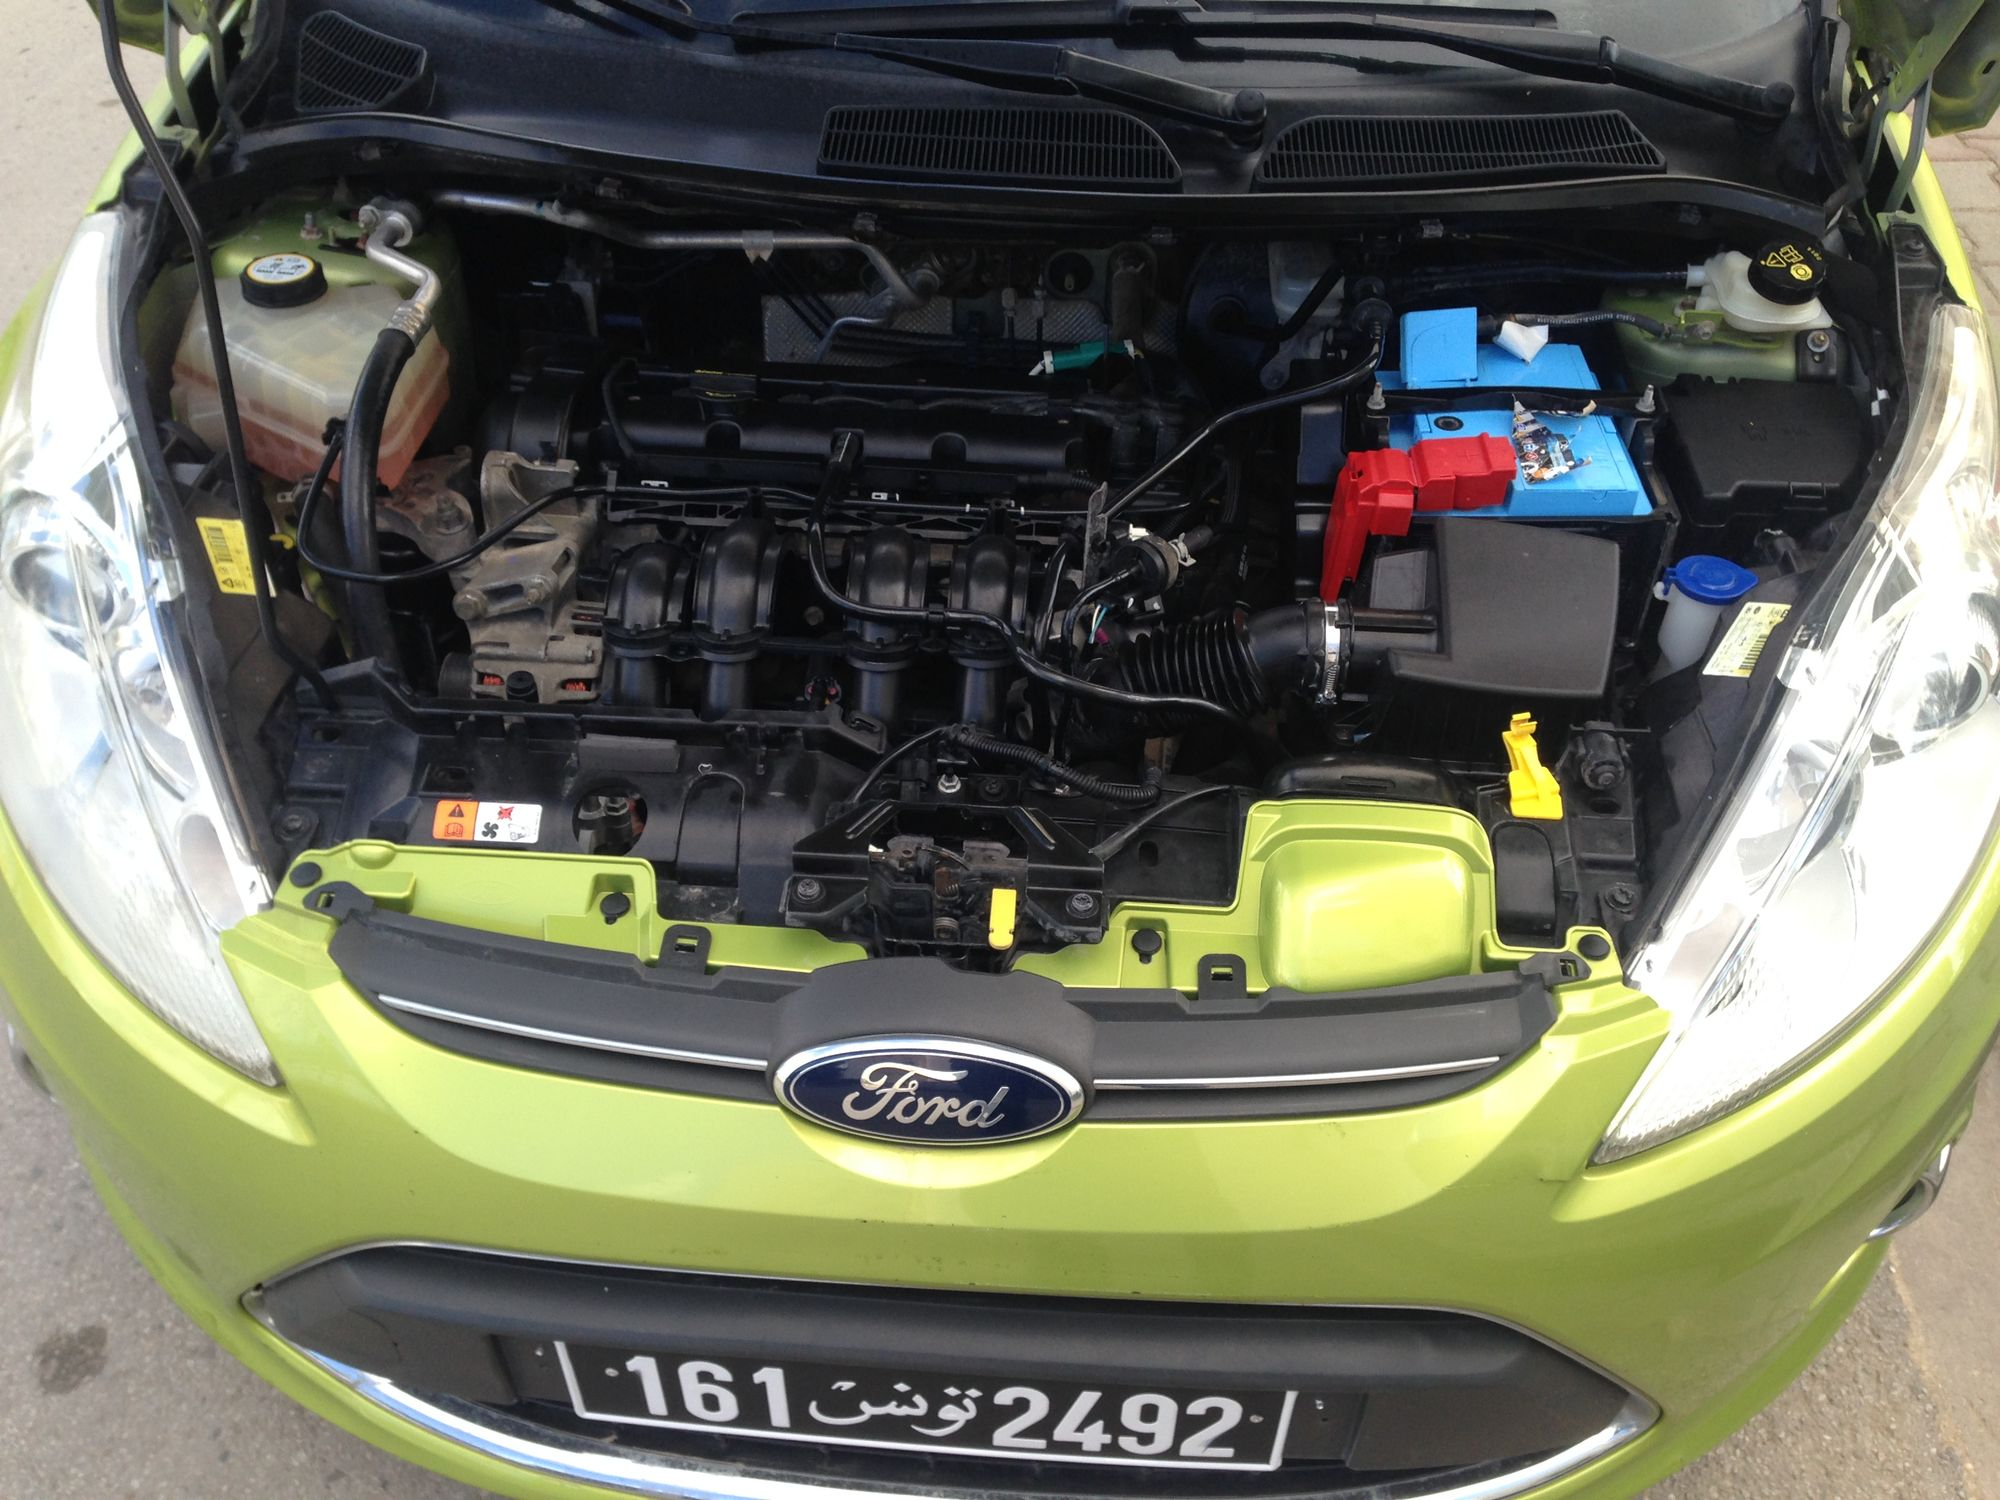LP: (551, 1326, 1311, 1480)
